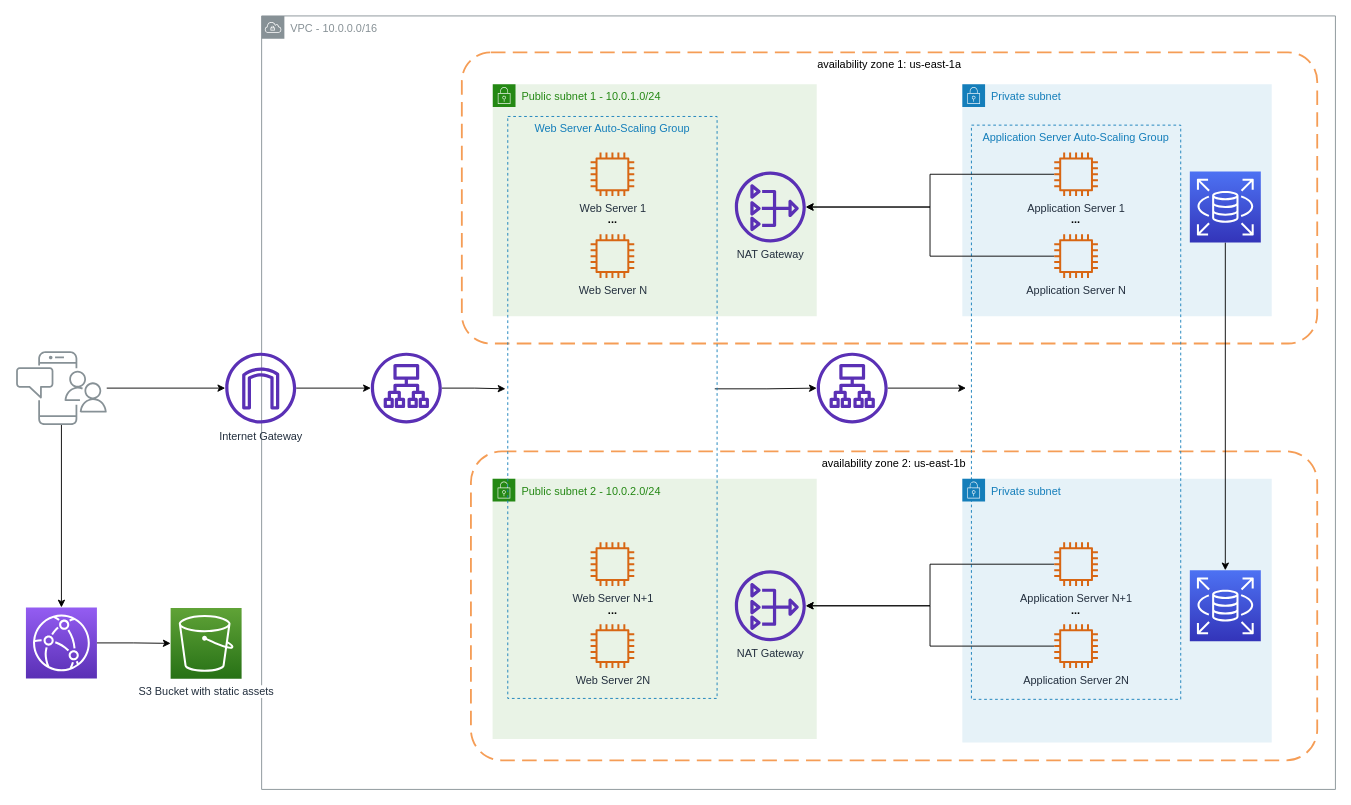
This 1351x805 diagram has some shape labels left out. Here are the shapes that lost their labels. From the top down, the centre of each, then its label:
point (1225, 207): Master DB
point (60, 388): Users
point (405, 387): Web Server ALB
point (851, 387): Application Server ALB
point (1225, 605): Read Replica
point (61, 642): Cloudfront
